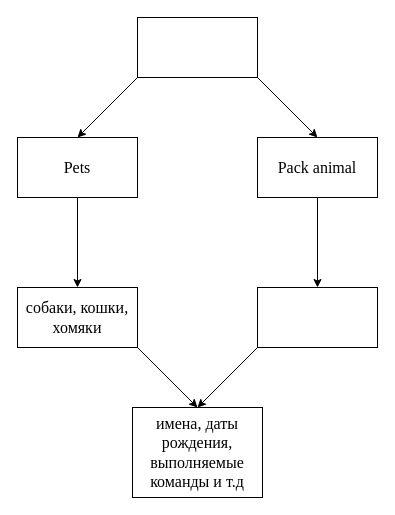
Some shapes in this 395 by 515 pixel diagram are drawn without their labels. The centre of each missing label's shape, as x and y in pixels:
"Животные" belongs at [197,47].
"Лошади, верблюды и ослы" belongs at [317,317].
